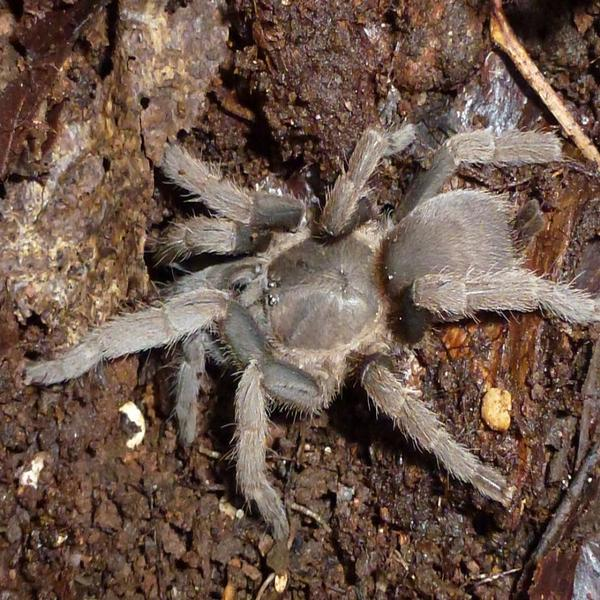Tarantula Spider: (46, 130, 589, 516)
